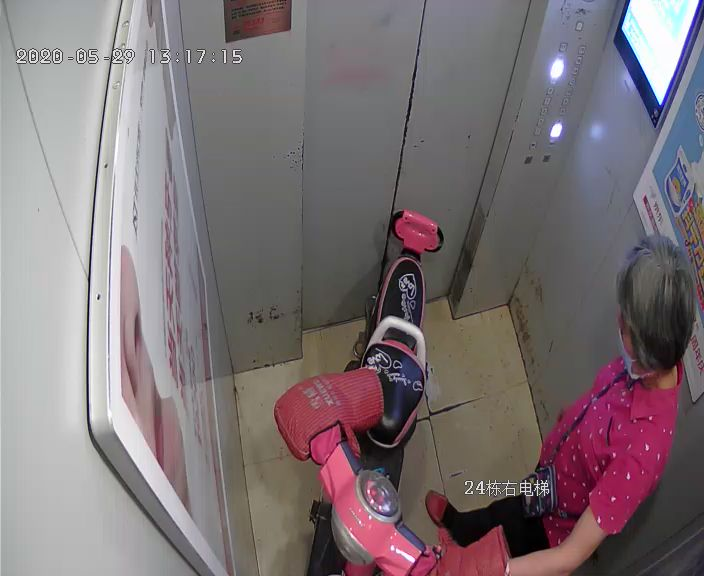Electric-bicycle: (279, 212, 449, 576)
